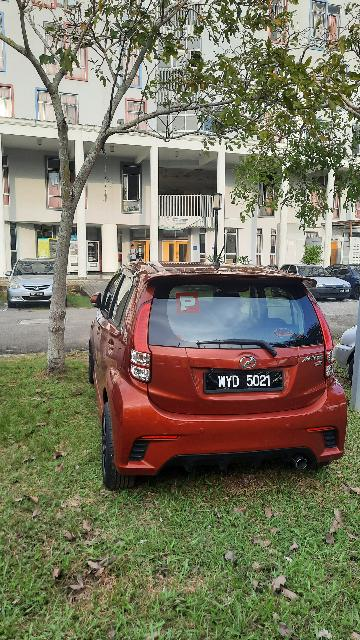License_Plate: (201, 363, 287, 396)
car: (91, 260, 350, 485)
